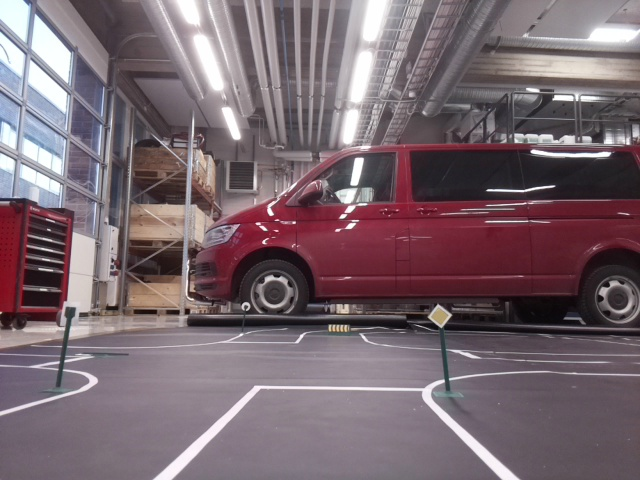Priority: (427, 304, 450, 327)
